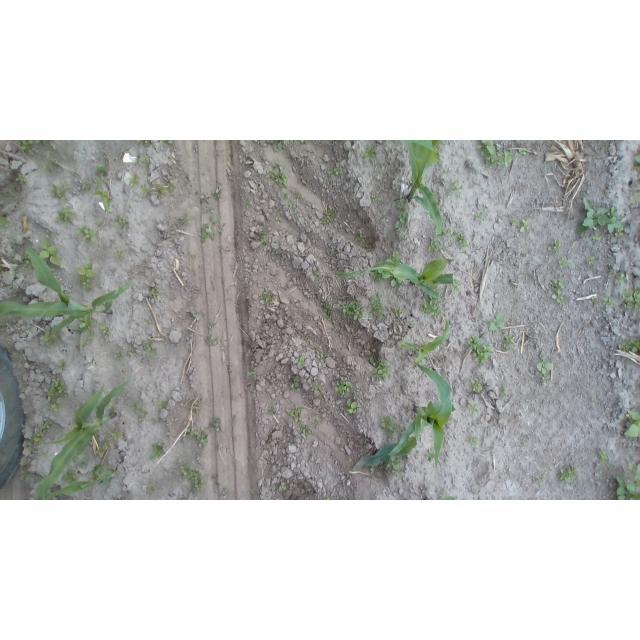Maize: (352, 361, 456, 473), (1, 247, 131, 335), (36, 379, 131, 499), (335, 258, 453, 298), (403, 140, 443, 234), (46, 464, 119, 501), (402, 320, 449, 363), (439, 496, 457, 500)
Weeds: (581, 197, 623, 233), (480, 141, 515, 172), (613, 460, 640, 500), (467, 333, 495, 366), (180, 463, 205, 490), (48, 378, 67, 413), (379, 413, 402, 439), (370, 356, 391, 384), (342, 300, 367, 323), (38, 241, 60, 266), (444, 227, 470, 248), (619, 286, 640, 311), (188, 425, 211, 447), (483, 312, 507, 333), (550, 276, 567, 305), (199, 215, 217, 242), (423, 298, 443, 320), (93, 189, 112, 212), (625, 410, 640, 439), (102, 429, 122, 449), (55, 207, 75, 226), (370, 292, 384, 319), (557, 464, 577, 482), (322, 207, 338, 229), (264, 171, 289, 185), (617, 338, 640, 353), (78, 262, 95, 282), (537, 362, 554, 382), (150, 442, 167, 461), (501, 333, 515, 356), (335, 379, 353, 396), (27, 433, 45, 450), (393, 212, 410, 229), (77, 317, 95, 333), (50, 182, 68, 198), (40, 330, 57, 346), (80, 226, 96, 243), (322, 301, 337, 319), (167, 215, 179, 237), (470, 376, 486, 392), (142, 339, 157, 356), (22, 141, 39, 156), (73, 457, 91, 471), (262, 292, 277, 308), (388, 458, 403, 474), (81, 332, 97, 347), (289, 406, 303, 423), (212, 182, 224, 201), (426, 239, 441, 253), (288, 375, 302, 390), (345, 399, 359, 414), (614, 271, 628, 286), (387, 251, 402, 264), (63, 470, 78, 483), (133, 403, 146, 418), (204, 335, 220, 347), (451, 180, 465, 193), (259, 228, 269, 246), (520, 216, 531, 232), (20, 471, 36, 482), (267, 141, 286, 150), (473, 211, 486, 224), (139, 158, 152, 171), (392, 305, 404, 319), (200, 193, 214, 205), (399, 230, 411, 243), (154, 183, 167, 195), (605, 297, 618, 309), (598, 452, 610, 465), (115, 215, 129, 226), (130, 172, 141, 186), (38, 420, 55, 429), (366, 145, 376, 160), (333, 166, 345, 178), (159, 398, 171, 410), (101, 324, 113, 336), (451, 280, 462, 293), (278, 482, 291, 493), (41, 163, 55, 173), (141, 183, 151, 197), (557, 255, 568, 267), (95, 165, 107, 176), (467, 402, 478, 414), (81, 180, 95, 189), (630, 193, 640, 205), (316, 347, 324, 362), (310, 381, 322, 391), (138, 140, 153, 148), (584, 256, 597, 265), (298, 357, 307, 370), (211, 418, 220, 431), (314, 269, 325, 279), (57, 360, 68, 370), (115, 352, 125, 363), (469, 435, 480, 445), (553, 238, 562, 250), (276, 161, 288, 170), (371, 193, 381, 203), (355, 231, 365, 241), (396, 202, 406, 212), (301, 426, 311, 436), (94, 177, 104, 187), (192, 311, 202, 321), (115, 249, 124, 260), (151, 287, 159, 299), (501, 385, 509, 397), (291, 141, 310, 146), (441, 168, 452, 176), (0, 216, 8, 226), (45, 232, 55, 240), (16, 172, 24, 182), (634, 154, 640, 167), (146, 487, 157, 494), (20, 255, 28, 264), (84, 281, 94, 288), (169, 183, 176, 193), (519, 148, 527, 156), (128, 348, 136, 356), (592, 296, 600, 304), (594, 235, 603, 242), (38, 141, 47, 148), (159, 140, 174, 144), (539, 352, 546, 360), (296, 192, 305, 198), (269, 407, 276, 414), (536, 479, 543, 486), (245, 201, 251, 209), (283, 189, 289, 197), (248, 372, 257, 377), (182, 496, 191, 501), (289, 202, 296, 208), (410, 322, 417, 328), (326, 494, 333, 500), (510, 221, 516, 227), (114, 496, 123, 500), (145, 320, 151, 325), (98, 220, 105, 224), (207, 323, 212, 328)
